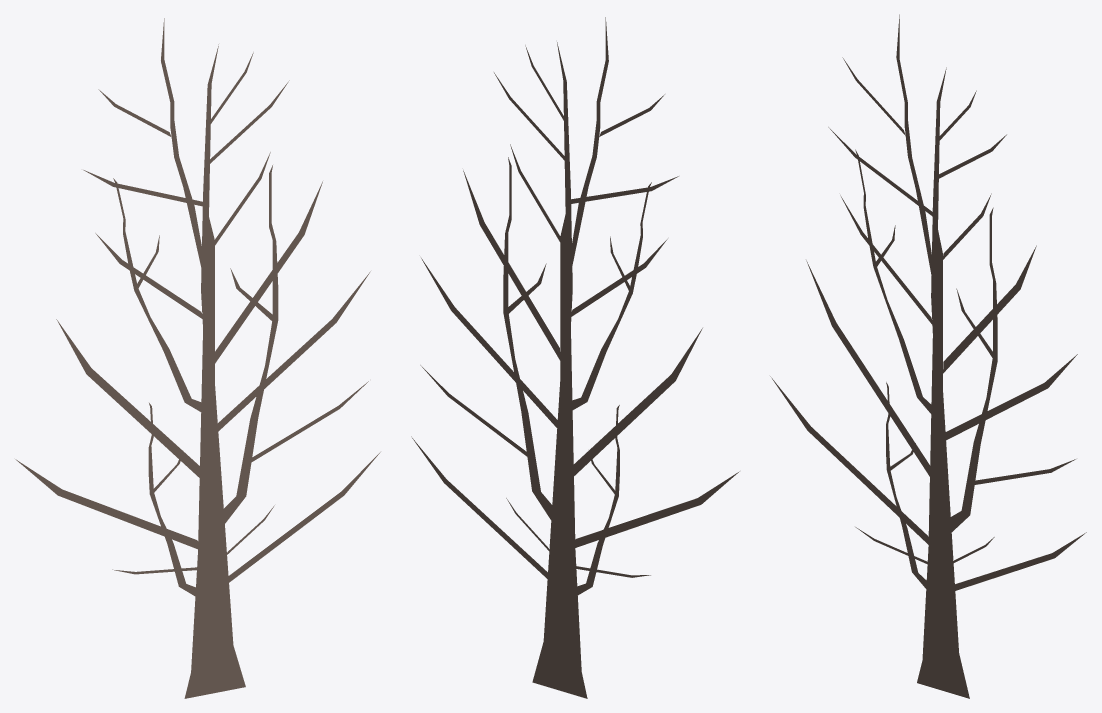
File: bug-tree.dae
The picture shows the model from 3 angles, left to right: view 1: azimuth 30°, elevation 25°; view 2: azimuth 150°, elevation 25°; view 3: azimuth 330°, elevation 25°; orthographic projection. The views are drawn at different scales.
Parts seen in each view (by area): view 1: group_0, branch_right (×7), branch_right2 (×3); view 2: group_0, branch_right (×6), branch_right2 (×3); view 3: group_0, branch_right (×6), branch_right2 (×3).
Boxes of the visible parts, bbox=[...] form: group_0: bbox=[161, 18, 245, 698]; branch_right (×7): bbox=[15, 170, 380, 586]; branch_right2 (×3): bbox=[113, 165, 278, 596]; group_0: bbox=[532, 17, 608, 698]; branch_right (×6): bbox=[411, 170, 739, 582]; branch_right2 (×3): bbox=[503, 157, 651, 595]; group_0: bbox=[896, 14, 969, 698]; branch_right (×6): bbox=[770, 195, 1086, 592]; branch_right2 (×3): bbox=[855, 149, 997, 588].
Size of the model in its own units: 226 by 21.2 by 426.
